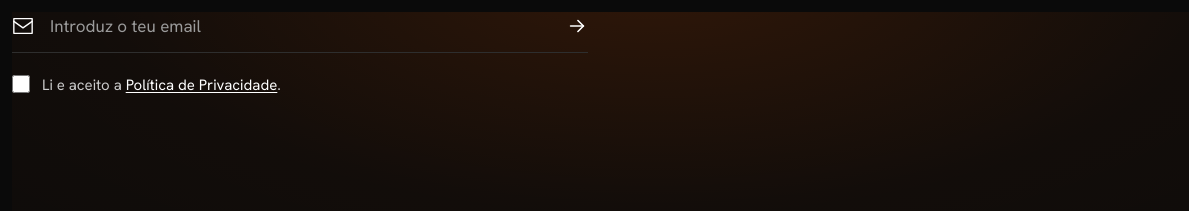
it: NewsletterForm › shows an alert and restores the submit button after an API failure
In the field labelled "email": (300, 26) [50,12,550,40], type "filipa@example.com"
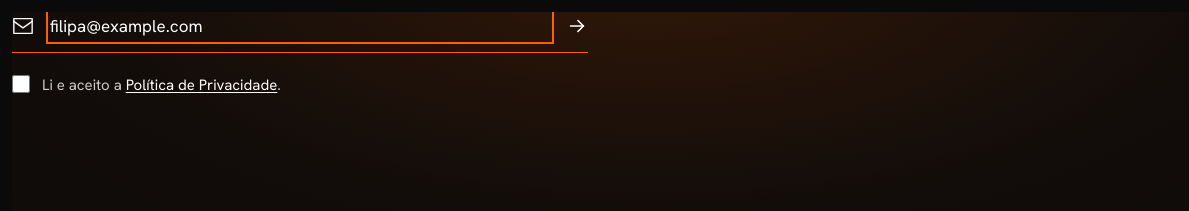
Click the checkbox: (21, 84) [12,75,30,93]
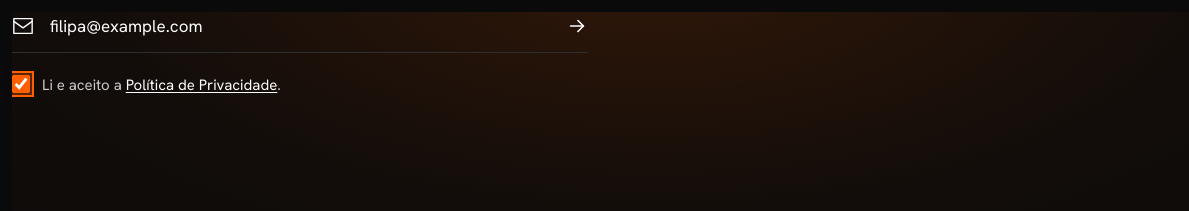
Click the button named "Subscrever newsletter": (577, 26) [566,15,588,37]
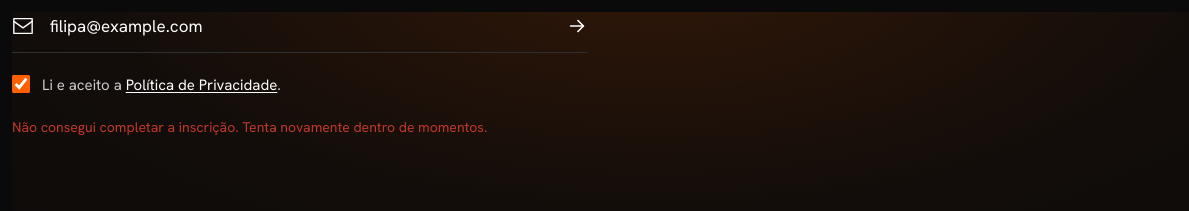
Now the message shows "Não consegui completar a inscrição.", box [12,118,487,136]
